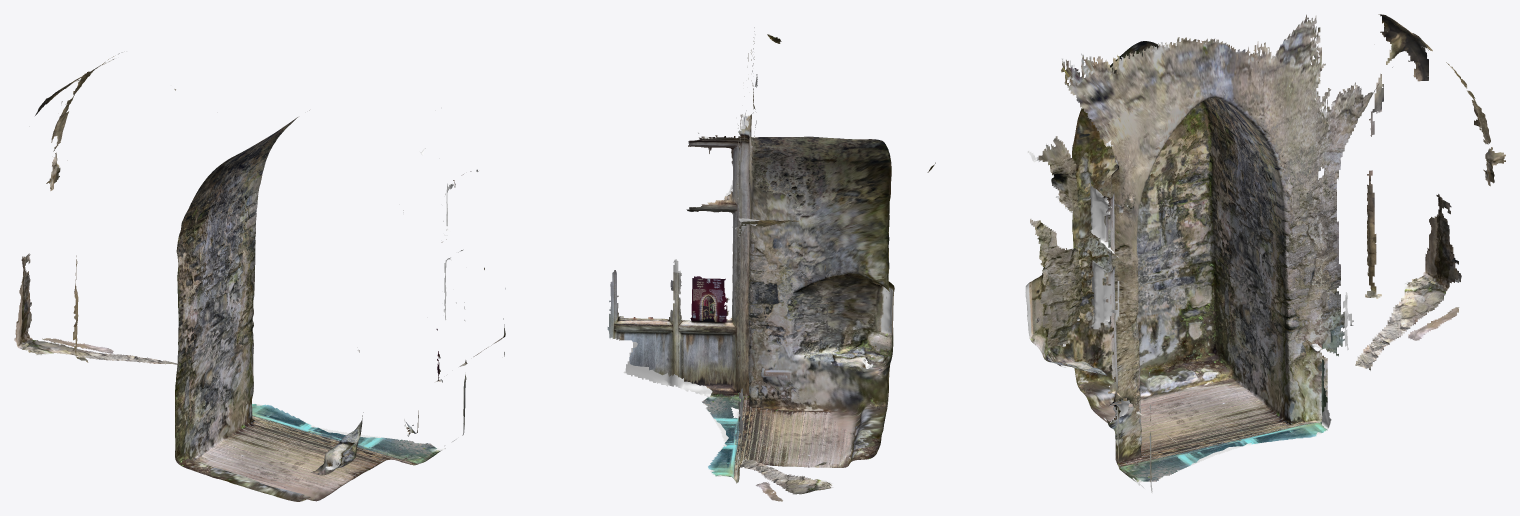
The picture shows the model from 3 angles, left to right: view 1: azimuth 30°, elevation 25°; view 2: azimuth 150°, elevation 25°; view 3: azimuth 270°, elevation 25°; orthographic projection. The views are drawn at different scales.
Parts seen in each view (by area): view 1: texture_3, texture_1, texture_5, texture_4, texture_2, texture_0, object 1; view 2: texture_0, texture_2, texture_3, texture_1, texture_4, texture_5, object 1; view 3: texture_5, texture_1, texture_3, texture_4, texture_0, texture_2, object 1.
Part boxes in pixels (bbox=[...]): texture_3: bbox=[147, 325, 440, 492]; texture_1: bbox=[29, 239, 363, 501]; texture_5: bbox=[14, 110, 463, 362]; texture_4: bbox=[35, 56, 294, 287]; texture_2: bbox=[251, 288, 505, 470]; texture_0: bbox=[191, 131, 484, 499]; object 1: bbox=[30, 51, 478, 469]; texture_0: bbox=[688, 34, 894, 431]; texture_2: bbox=[607, 266, 892, 476]; texture_3: bbox=[702, 358, 887, 483]; texture_1: bbox=[742, 273, 893, 501]; texture_4: bbox=[732, 83, 853, 335]; texture_5: bbox=[687, 27, 881, 494]; object 1: bbox=[623, 34, 872, 493]; texture_5: bbox=[1030, 14, 1456, 350]; texture_1: bbox=[1027, 178, 1461, 420]; texture_3: bbox=[1061, 285, 1381, 481]; texture_4: bbox=[1038, 14, 1505, 271]; texture_0: bbox=[927, 41, 1290, 407]; texture_2: bbox=[1035, 306, 1317, 481]; object 1: bbox=[1027, 31, 1459, 493].
Size of the model in its own units: 4.72 by 4.94 by 6.21.
7 materials, 6 textured.
